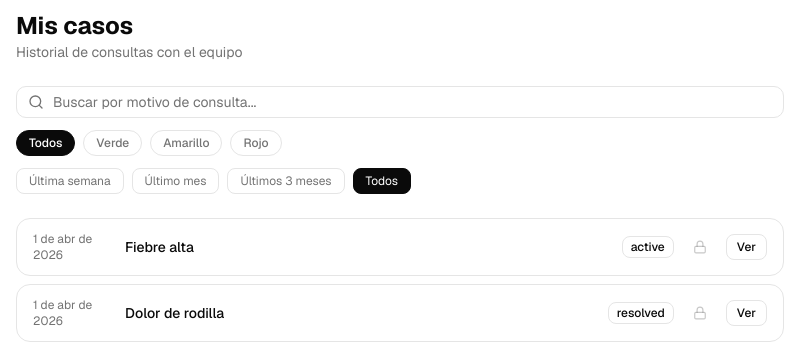
Test case: HistoryPage › search filters the case list
Expected: the text "Fiebre alta" is shown, [125,238,194,256]
In the field with placeholder "Buscar por motivo de consulta...": (400, 102) [16,86,784,118], type "rodilla"
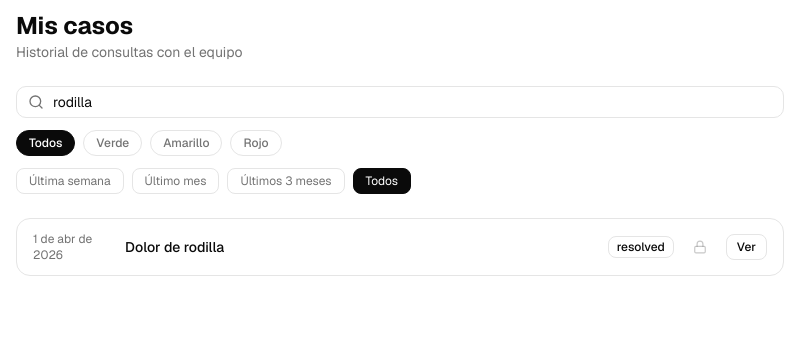
Expected: the text "Dolor de rodilla" is shown, [125,238,224,256]
Expected: the text "Fiebre alta" is gone
